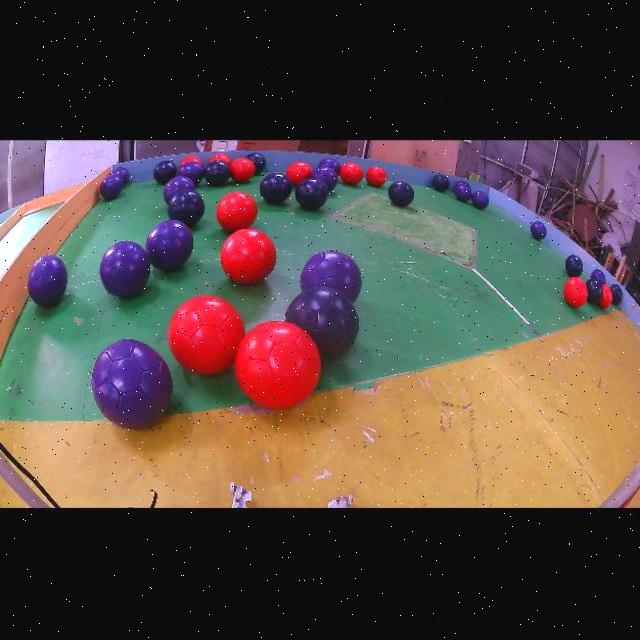B: (286, 287, 359, 360), (168, 189, 205, 227), (295, 179, 328, 211), (260, 172, 292, 204), (388, 181, 415, 207), (204, 161, 231, 186), (153, 161, 177, 185), (586, 278, 603, 305), (564, 255, 584, 277), (245, 153, 265, 175), (433, 175, 449, 193), (610, 285, 623, 305)
P: (92, 340, 173, 430), (300, 250, 361, 303), (99, 241, 150, 299), (145, 220, 194, 272), (28, 255, 67, 308), (163, 176, 195, 204), (310, 166, 338, 191), (178, 161, 204, 185), (99, 175, 123, 200), (318, 158, 341, 174), (112, 166, 130, 185), (471, 191, 489, 209), (531, 221, 546, 240), (590, 269, 607, 285), (455, 185, 471, 201), (455, 181, 469, 188)
R: (235, 322, 320, 409), (168, 296, 245, 375), (221, 228, 277, 283), (217, 191, 258, 231), (563, 277, 587, 308), (286, 162, 313, 185), (230, 158, 255, 182), (339, 162, 364, 185), (365, 167, 387, 186), (599, 285, 613, 308), (209, 153, 232, 165), (180, 156, 203, 167)
